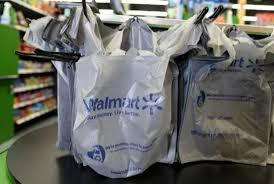Plastic bag: (64, 33, 177, 181), (185, 41, 273, 184)
